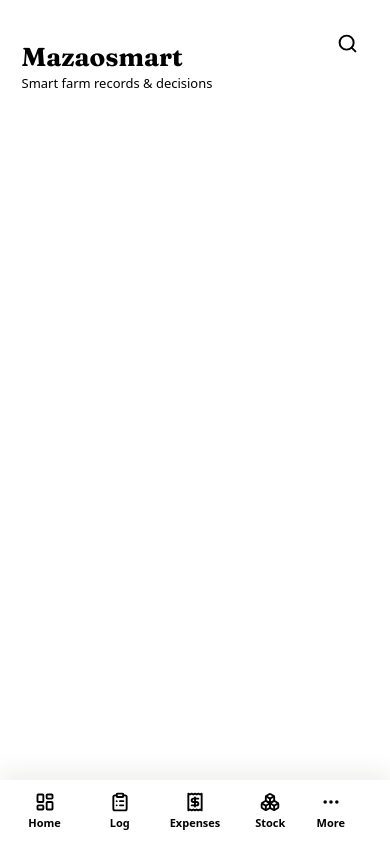
Header — "More" menu opens and closes correctly › opens when the More button is clicked, and reflects that in aria-expanded
Click the button "More". click: (331, 812)
box: [309,788,353,836]
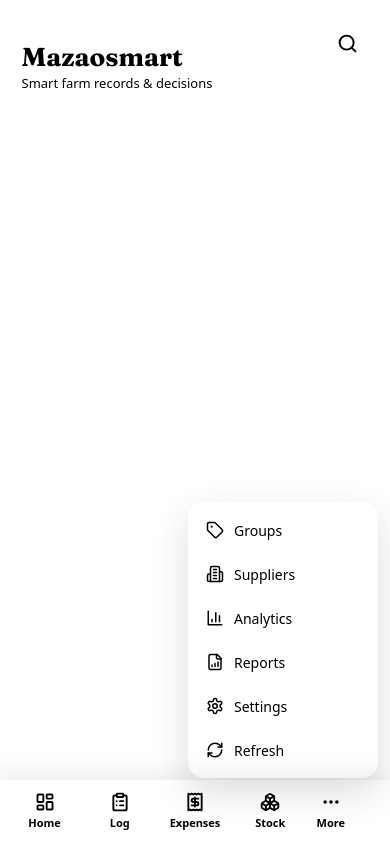
Result: the menu is shown at [188,502,378,778]
